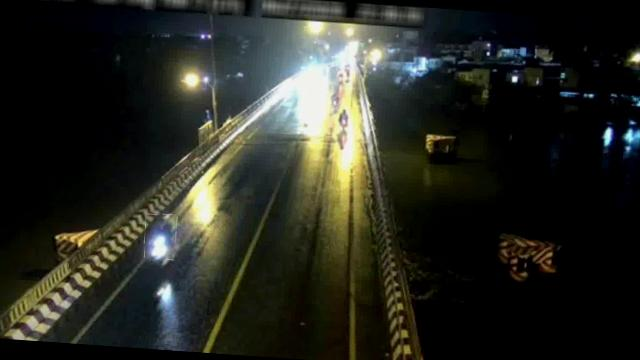Bike: (142, 214, 177, 260), (337, 106, 350, 125)
